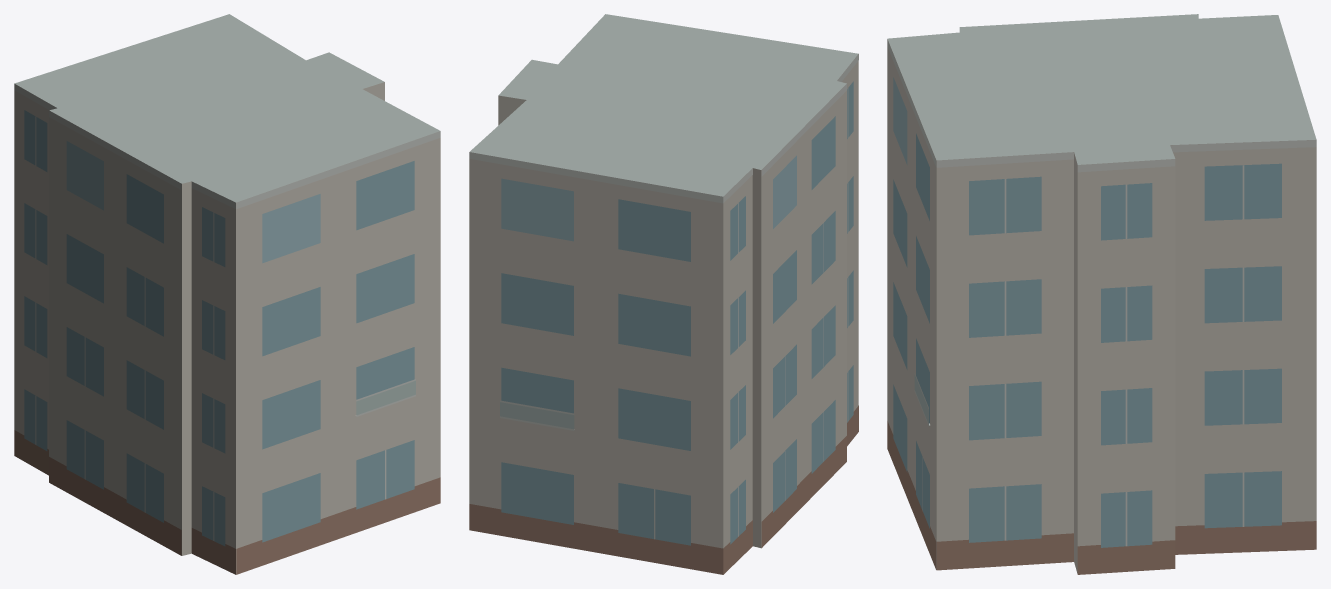
File: survey-upis-32761206.glb
3 renders of one model, left to right at view 1: azimuth 30°, elevation 25°; view 2: azimuth 150°, elevation 25°; view 3: azimuth 270°, elevation 25°, orthographic. The views are drawn at different scales.
Visible parts, largest first — view 1: survey-upis-32761206.tmp; view 2: survey-upis-32761206.tmp; view 3: survey-upis-32761206.tmp.
Boxes of the visible parts, <box> form: survey-upis-32761206.tmp: <box>14,14,440,574</box>; survey-upis-32761206.tmp: <box>469,14,858,574</box>; survey-upis-32761206.tmp: <box>887,14,1316,574</box>.
Size of the model in its own units: 10.75 by 13.6 by 12.92.
